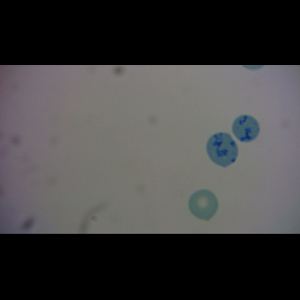aggregate reticulocyte: (205, 131, 239, 170), (231, 114, 261, 144)
erythrocyte: (187, 189, 220, 222)
